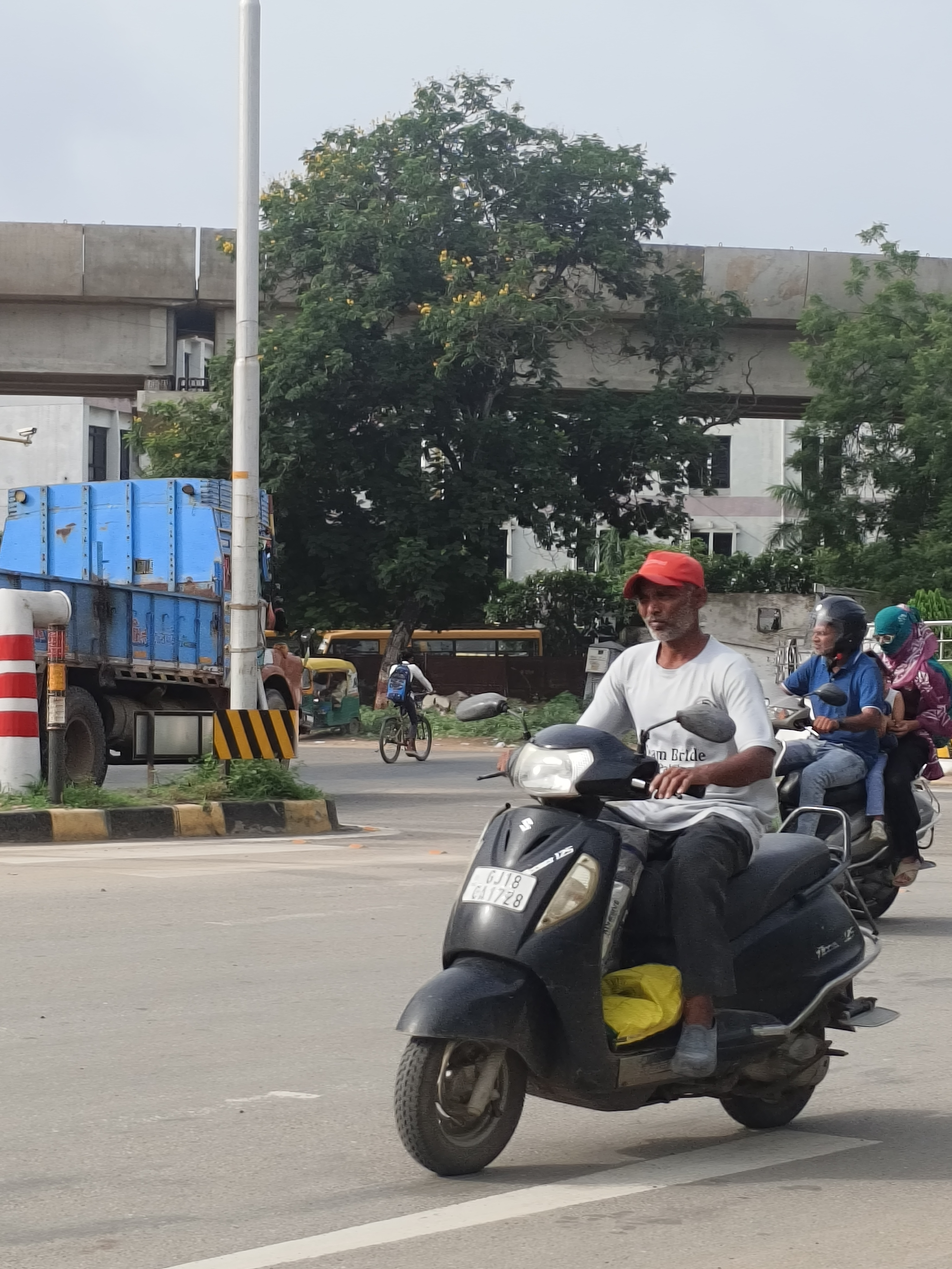BikeWithRider: (379, 540, 904, 1186), (758, 587, 952, 925), (369, 648, 442, 767)
Helmet: (803, 589, 873, 660)
NoHelmet: (613, 543, 720, 645), (867, 601, 920, 652)
